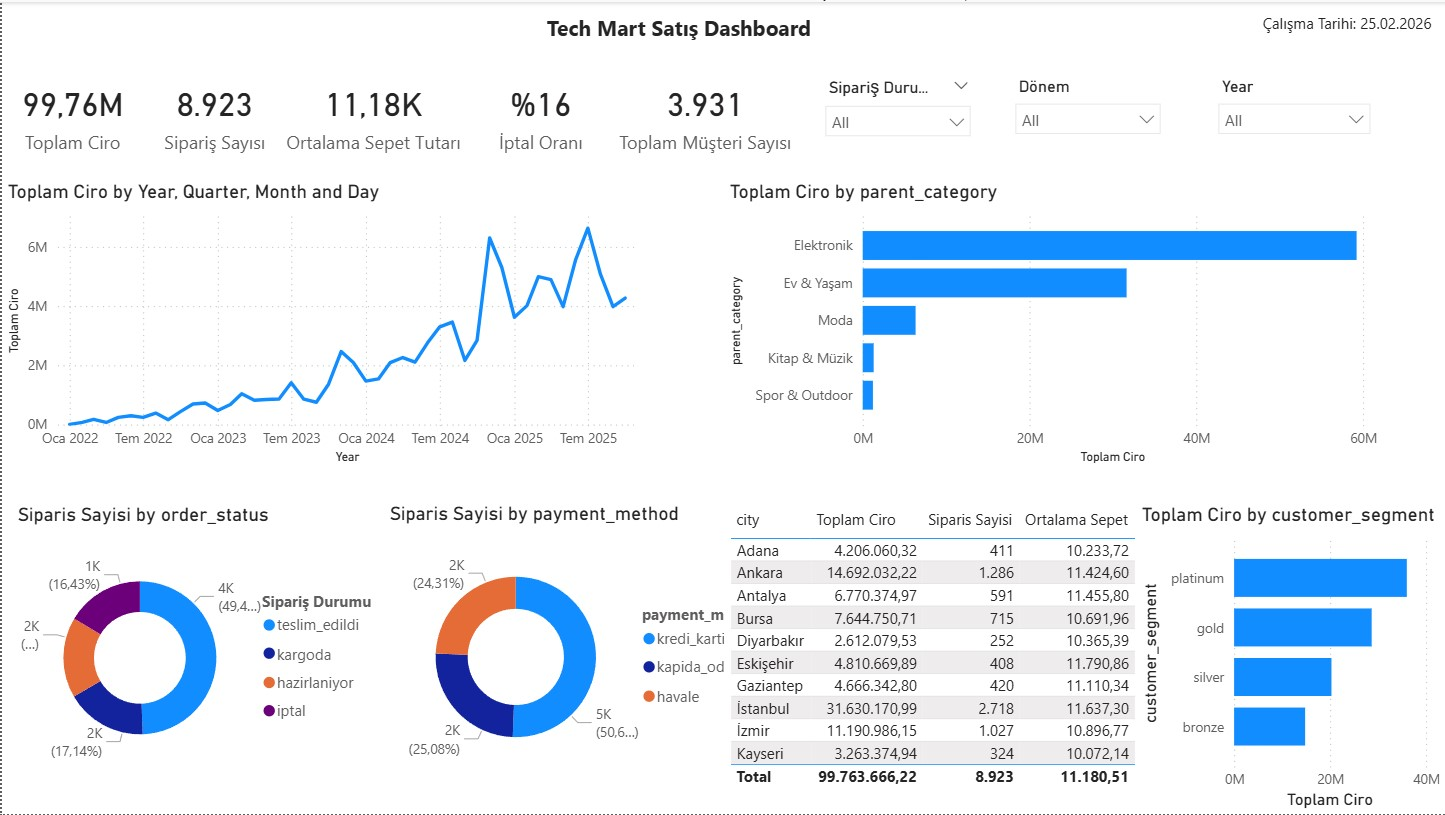

This screenshot's page, from the dashboard's own definition file:
{"tool":"powerbi","page":{"name":"Satış Dashboard","canvas":[1280,720],"ordinal":0},"visuals":[{"type":"card","fields":{"Values":["data.Toplam Ciro"]},"box":[0,42.8,125.5,114.8],"z":0},{"type":"card","fields":{"Values":["data.Siparis Sayisi"]},"box":[125.5,42.8,125.5,114.8],"z":1000},{"type":"card","fields":{"Values":["data.Ortalama Sepet"]},"box":[244.1,42.8,171.2,114.8],"z":2000},{"type":"card","fields":{"Values":["data.Iptal Orani"]},"box":[415.3,42.8,125.5,114.8],"z":3000},{"type":"card","fields":{"Values":["data.Benzersiz Musteri"]},"box":[540.8,42.8,165.3,114.8],"z":4000},{"type":"slicer","fields":{"Values":["data.order_status"]},"box":[720,62.4,149.3,75.1],"z":5000},{"type":"slicer","fields":{"Values":["data.year_month.Variation.Date Hierarchy.Year"]},"box":[1068.3,62.4,155.1,75.1],"z":7000},{"type":"slicer","fields":{"Values":["data.year_month"]},"box":[888.8,62.4,149.3,75.1],"z":8000},{"type":"lineChart","fields":{"Y":["data.Toplam Ciro"],"Category":["data.year_month.Variation.Date Hierarchy.Year","data.year_month.Variation.Date Hierarchy.Quarter","data.year_month.Variation.Date Hierarchy.Month","data.year_month.Variation.Date Hierarchy.Day"]},"box":[0,157.6,583.6,255.8],"z":9000},{"type":"donutChart","fields":{"Category":["data.payment_method"],"Y":["data.Siparis Sayisi"]},"box":[338.5,443.5,329.7,255.8],"z":10000},{"type":"donutChart","fields":{"Category":["data.order_status"],"Y":["data.Siparis Sayisi"]},"box":[8.8,443.9,329.8,255.6],"z":11000},{"type":"barChart","fields":{"Category":["data.parent_category"],"Y":["data.Toplam Ciro"]},"box":[640,157.6,583.6,255.8],"z":12000},{"type":"tableEx","fields":{"Values":["data.city","data.Toplam Ciro","data.Siparis Sayisi","data.Ortalama Sepet"]},"box":[640,442.9,378.5,256.6],"z":13000},{"type":"barChart","fields":{"Y":["data.Toplam Ciro"],"Category":["data.customer_segment"]},"box":[1005.9,443.9,274.1,276.1],"z":14000},{"type":"textbox","box":[478,4.9,300.5,38],"z":14001},{"type":"textbox","box":[1113.2,4.9,166.8,38],"z":14002}]}

Visuals, with their boxes in screenshot pixels (x1, y1, x2, y2), scaled from the page's 1280x720 canvas onto the 1445x815 screenshot:
card - data.Toplam Ciro: <region>0, 48, 142, 178</region>
card - data.Siparis Sayisi: <region>142, 48, 283, 178</region>
card - data.Ortalama Sepet: <region>276, 48, 469, 178</region>
card - data.Iptal Orani: <region>469, 48, 611, 178</region>
card - data.Benzersiz Musteri: <region>611, 48, 797, 178</region>
slicer - data.order_status: <region>813, 71, 981, 156</region>
slicer - data.year_month.Variation.Date Hierarchy.Year: <region>1206, 71, 1381, 156</region>
slicer - data.year_month: <region>1003, 71, 1172, 156</region>
lineChart - data.Toplam Ciro x data.year_month.Variation.Date Hierarchy.Year: <region>0, 178, 659, 468</region>
donutChart - data.payment_method x data.Siparis Sayisi: <region>382, 502, 754, 792</region>
donutChart - data.order_status x data.Siparis Sayisi: <region>10, 502, 382, 792</region>
barChart - data.parent_category x data.Toplam Ciro: <region>722, 178, 1381, 468</region>
tableEx - data.city x data.Toplam Ciro: <region>722, 501, 1150, 792</region>
barChart - data.Toplam Ciro x data.customer_segment: <region>1136, 502, 1444, 814</region>
textbox: <region>540, 6, 879, 49</region>
textbox: <region>1257, 6, 1444, 49</region>
